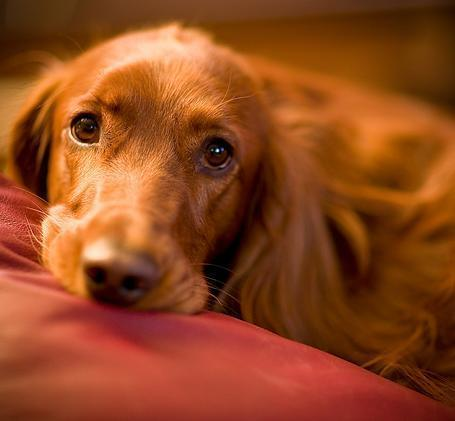Irish_setter: (1, 1, 452, 390)
